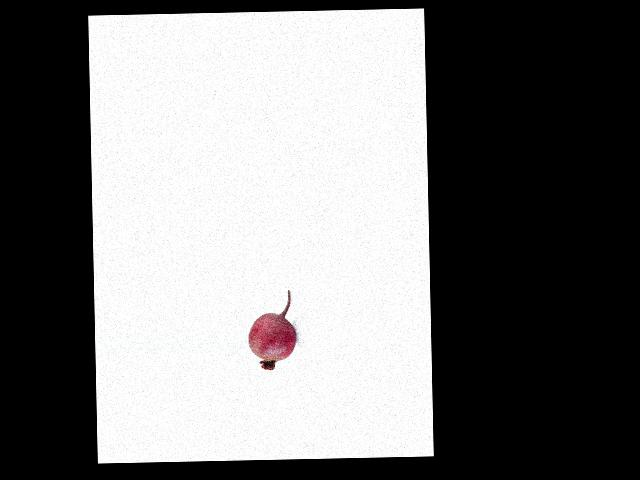beet: (248, 289, 297, 370)
